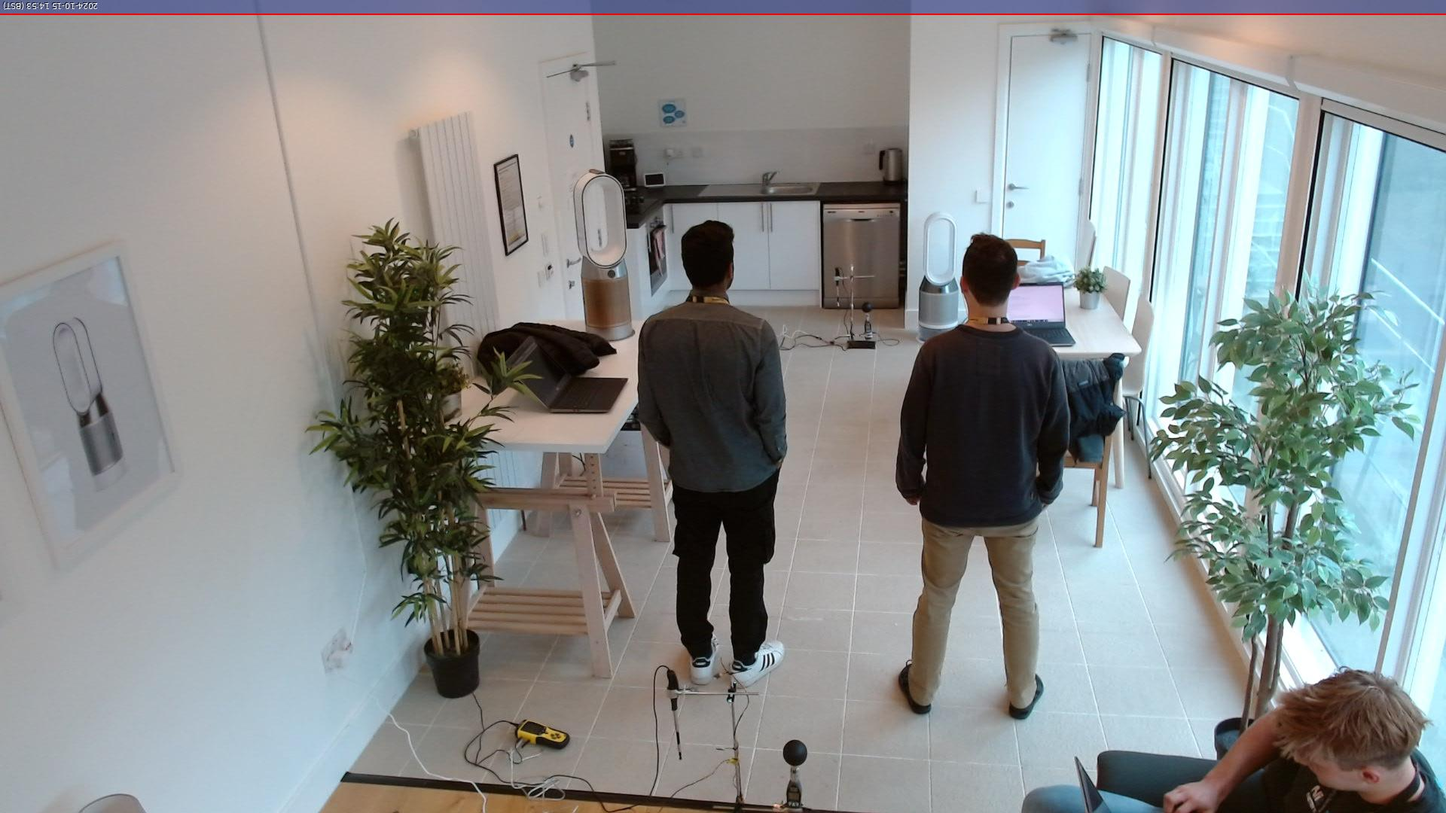long sleeve shirt: (632, 291, 792, 493)
short sleeve shirt: (1268, 725, 1446, 813)
sweater: (892, 322, 1073, 529)
trousers: (902, 509, 1041, 711), (671, 466, 782, 667), (1019, 782, 1173, 813)
